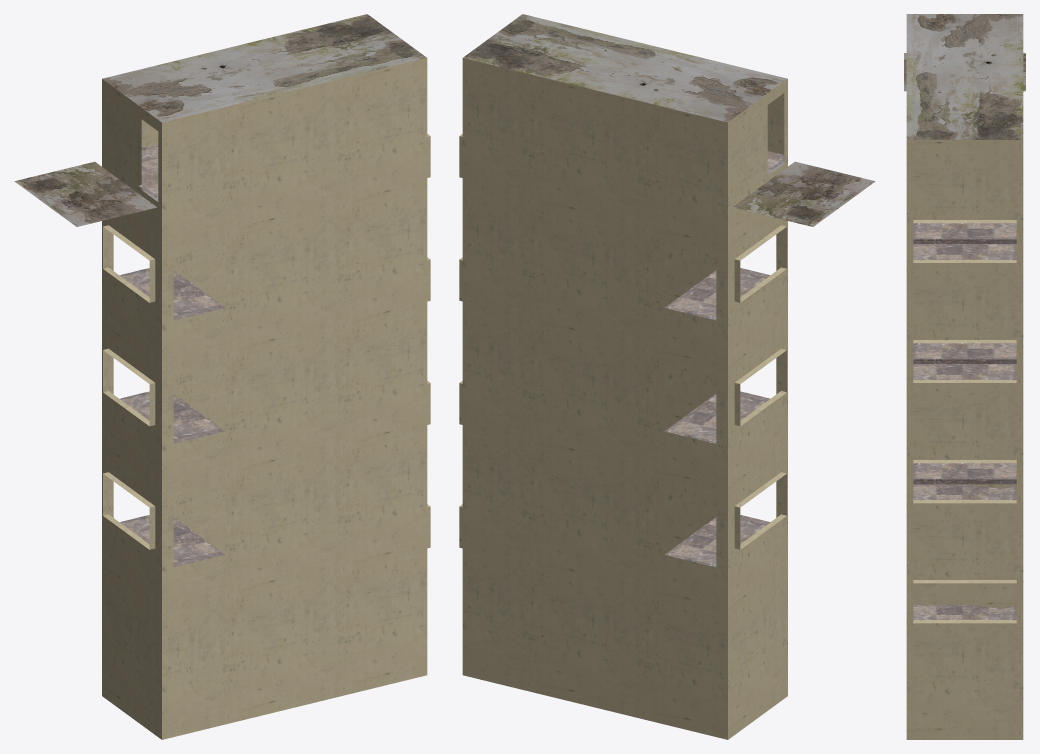
The model's file is LobbyStructure.FBX.
3 views of the same model, side by side, from view 1: azimuth 30°, elevation 25°; view 2: azimuth 150°, elevation 25°; view 3: azimuth 270°, elevation 25° (orthographic). The views are drawn at different scales.
Visible parts, largest first — view 1: LobbyStructure; view 2: LobbyStructure; view 3: LobbyStructure.
Part boxes in pixels (box(x1,y1,x2,y2)): LobbyStructure: box(14, 14, 430, 739); LobbyStructure: box(459, 14, 875, 739); LobbyStructure: box(904, 14, 1025, 739).
Bounding box in the file's own units: 1555 × 2557 × 470.
